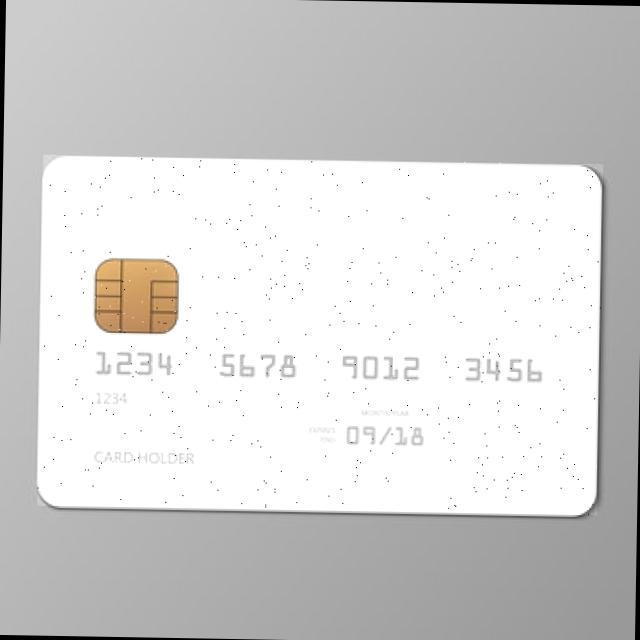payment_card: (36, 154, 603, 516)
